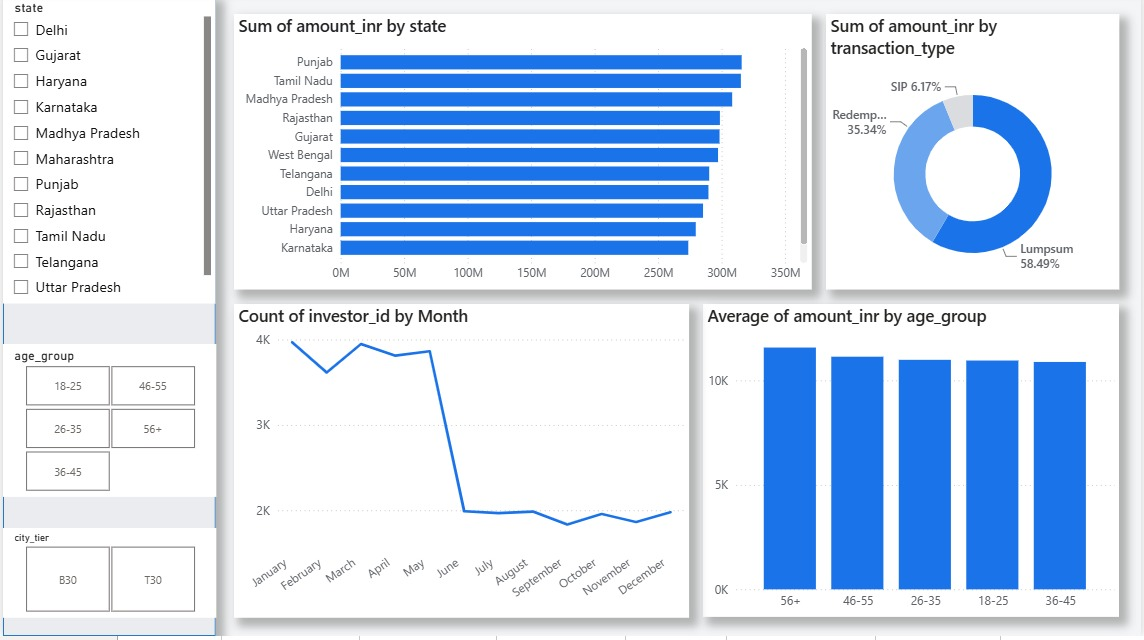

The dashboard page shown, as its layout file describes it:
{"tool":"powerbi","page":{"name":"Investor Analytics","canvas":[1280,720],"ordinal":2},"visuals":[{"type":"shape","box":[0,0,239.2,720],"z":0},{"type":"clusteredBarChart","fields":{"Category":["clean_transactions.state"],"Y":["Sum(clean_transactions.amount_inr)"]},"box":[260,20,650,310],"z":1000},{"type":"donutChart","fields":{"Category":["clean_transactions.transaction_type"],"Y":["Sum(clean_transactions.amount_inr)"]},"box":[926,20,330,310],"z":2000},{"type":"clusteredColumnChart","fields":{"Category":["clean_transactions.age_group"],"Y":["Avg(clean_transactions.amount_inr)"]},"box":[788,346,468.2,352],"z":3000},{"type":"lineChart","fields":{"Category":["clean_transactions.transaction_date.Variation.Date Hierarchy.Month"],"Y":["CountNonNull(clean_transactions.investor_id)"]},"box":[260,346,511.5,353.2],"z":4000},{"type":"slicer","fields":{"Values":["clean_transactions.state"]},"box":[0,0,239.2,346.3],"z":5000},{"type":"slicer","fields":{"Values":["clean_transactions.city_tier"]},"box":[0,598.5,239.6,101.2],"z":6000},{"type":"slicer","fields":{"Values":["clean_transactions.age_group"]},"box":[0,391.5,239.6,172.1],"z":7000}]}

Visuals, with their boxes in screenshot pixels (x1, y1, x2, y2), scaled from the page's 1280x720 canvas onto the 1144x640 screenshot:
shape: <bbox>0, 0, 214, 639</bbox>
clusteredBarChart - clean_transactions.state x Sum(clean_transactions.amount_inr): <bbox>232, 18, 813, 293</bbox>
donutChart - clean_transactions.transaction_type x Sum(clean_transactions.amount_inr): <bbox>828, 18, 1123, 293</bbox>
clusteredColumnChart - clean_transactions.age_group x Avg(clean_transactions.amount_inr): <bbox>704, 308, 1123, 620</bbox>
lineChart - clean_transactions.transaction_date.Variation.Date Hierarchy.Month x CountNonNull(clean_transactions.investor_id): <bbox>232, 308, 690, 622</bbox>
slicer - clean_transactions.state: <bbox>0, 0, 214, 308</bbox>
slicer - clean_transactions.city_tier: <bbox>0, 532, 214, 622</bbox>
slicer - clean_transactions.age_group: <bbox>0, 348, 214, 501</bbox>
